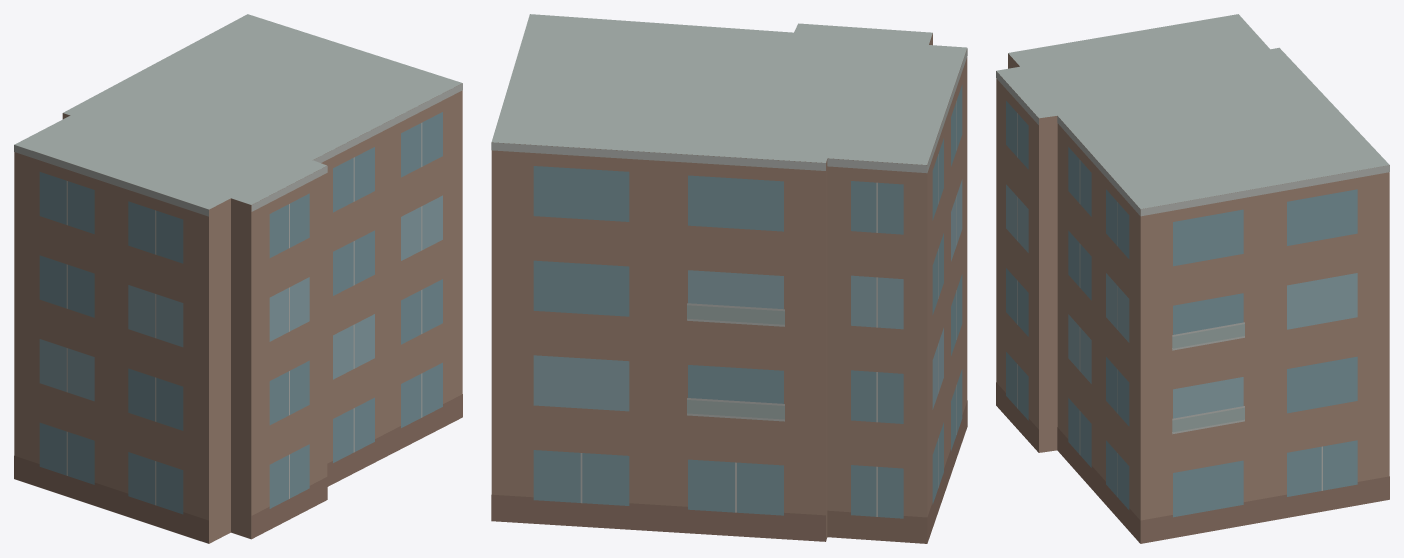
The model's file is survey-upis-33028371.glb.
3 renders of one model, left to right at view 1: azimuth 30°, elevation 25°; view 2: azimuth 150°, elevation 25°; view 3: azimuth 270°, elevation 25°, orthographic. The views are drawn at different scales.
Parts seen in each view (by area): view 1: survey-upis-33028371.tmp; view 2: survey-upis-33028371.tmp; view 3: survey-upis-33028371.tmp.
Boxes of the visible parts, box(x1,y1,x2,y2) form: survey-upis-33028371.tmp: box(14, 14, 462, 543); survey-upis-33028371.tmp: box(491, 14, 967, 543); survey-upis-33028371.tmp: box(996, 14, 1389, 543).
Bounding box in the file's own units: 14.27 × 11.4 × 12.16.
